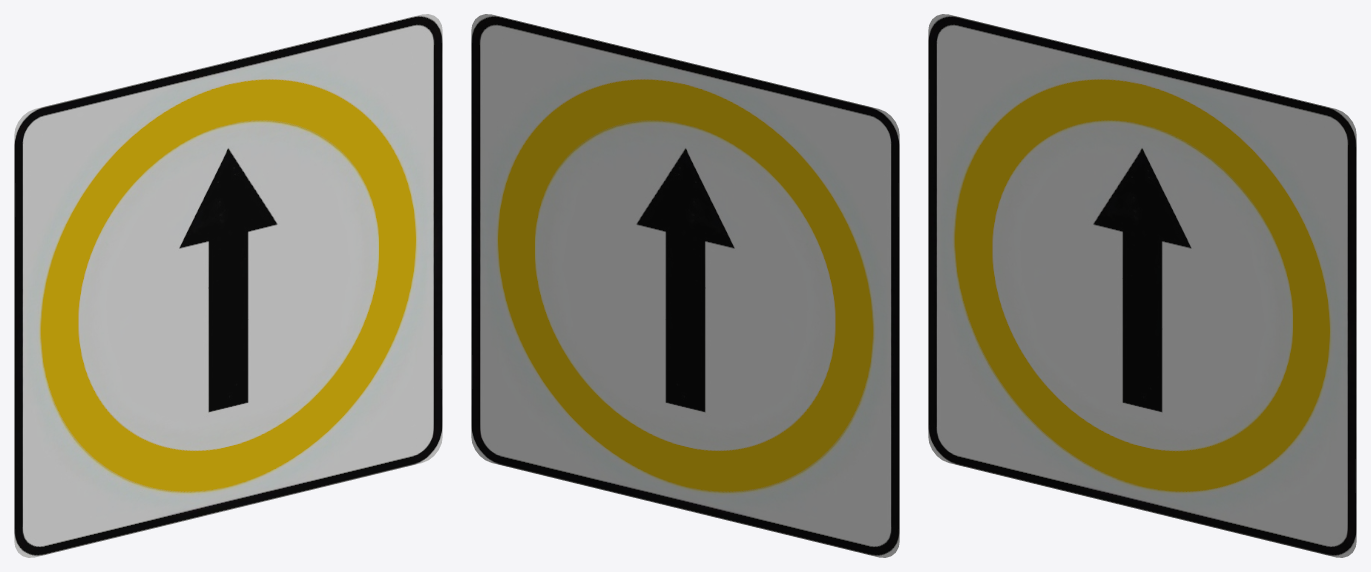
File: amarelo_up.gltf
The picture shows the model from 3 angles, left to right: view 1: azimuth 30°, elevation 25°; view 2: azimuth 150°, elevation 25°; view 3: azimuth 330°, elevation 25°; orthographic projection.
Visible parts, largest first — view 1: amarelo_up; view 2: amarelo_up; view 3: amarelo_up.
Boxes of the visible parts, x1,y1,x2,y2 form: amarelo_up: (14, 14, 442, 557); amarelo_up: (471, 14, 899, 557); amarelo_up: (928, 14, 1356, 557).
Size of the model in its own units: 1.51 by 1.51 by 3.36e-16.
Materials: 1 (1 with a texture image).
